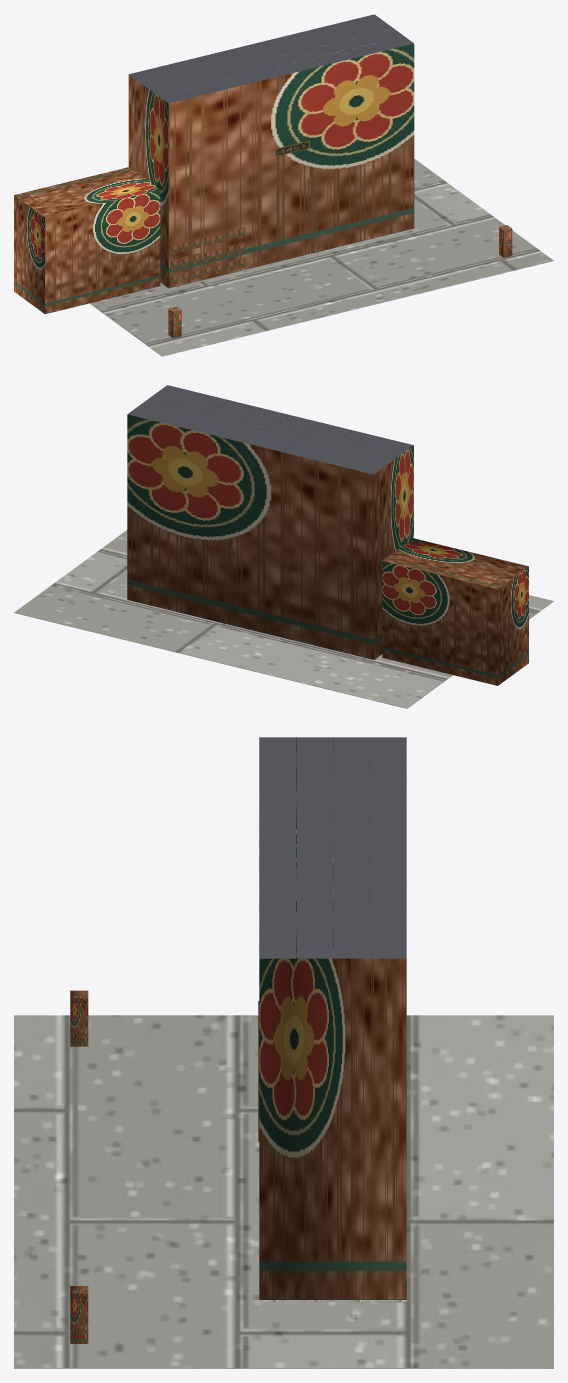
3 renders of one model, top to bottom at view 1: azimuth 30°, elevation 25°; view 2: azimuth 150°, elevation 25°; view 3: azimuth 270°, elevation 25°, orthographic. The views are drawn at different scales.
Visible parts, largest first — view 1: 11680_01_06261_035_02_L2__body, 11680_01_06261_035_01_L2__base, 11680_01_06261_035_03_L2__roof, 11680_01_06261_035_05_L2__openings, 11680_01_06261_035_06_L2__green; view 2: 11680_01_06261_035_02_L2__body, 11680_01_06261_035_01_L2__base, 11680_01_06261_035_03_L2__roof; view 3: 11680_01_06261_035_01_L2__base, 11680_01_06261_035_02_L2__body, 11680_01_06261_035_03_L2__roof, 11680_01_06261_035_06_L2__green.
Part boxes in pixels (bbox=[...]): 11680_01_06261_035_02_L2__body: bbox=[14, 21, 414, 314]; 11680_01_06261_035_01_L2__base: bbox=[90, 159, 553, 356]; 11680_01_06261_035_03_L2__roof: bbox=[129, 14, 413, 103]; 11680_01_06261_035_05_L2__openings: bbox=[170, 227, 245, 285]; 11680_01_06261_035_06_L2__green: bbox=[168, 225, 512, 338]; 11680_01_06261_035_02_L2__body: bbox=[127, 392, 528, 685]; 11680_01_06261_035_01_L2__base: bbox=[14, 530, 553, 708]; 11680_01_06261_035_03_L2__roof: bbox=[128, 385, 413, 474]; 11680_01_06261_035_01_L2__base: bbox=[14, 1015, 553, 1368]; 11680_01_06261_035_02_L2__body: bbox=[259, 737, 406, 1299]; 11680_01_06261_035_03_L2__roof: bbox=[259, 737, 406, 958]; 11680_01_06261_035_06_L2__green: bbox=[70, 990, 88, 1343].
Bounding box in the file's own units: 114 × 46.42 × 66.
5 materials, 5 textured.
